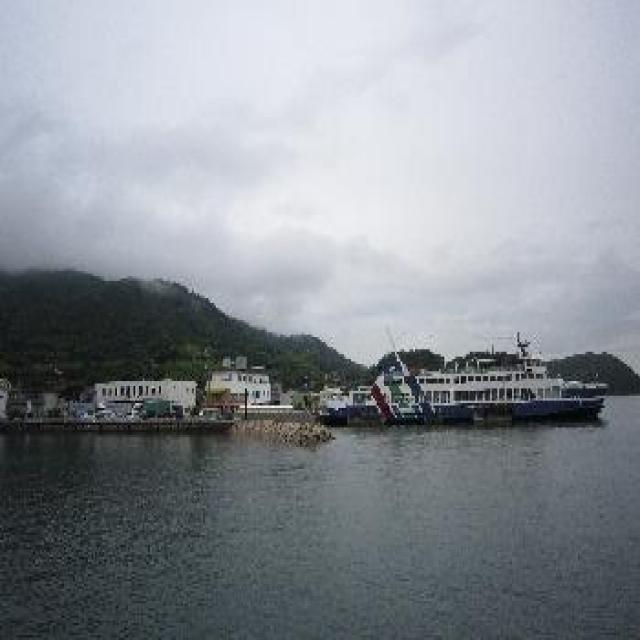passenger ship: (326, 316, 582, 427)
